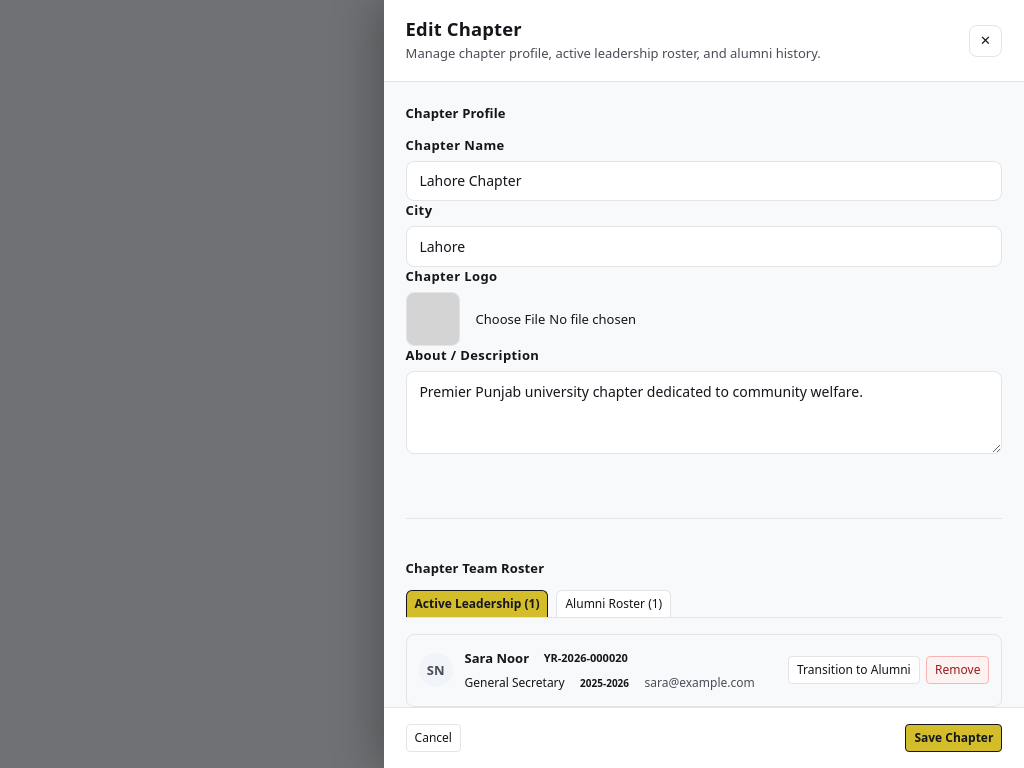
Test case: EditChapterDrawer › switches tabs between Active Leadership and Alumni Roster
Expected: the text "Sara Noor" is shown, [465,649,529,668]
# Switch to Alumni Roster tab
Click the tab "Alumni Roster (1)" at (614, 604), box [556,590,671,617]
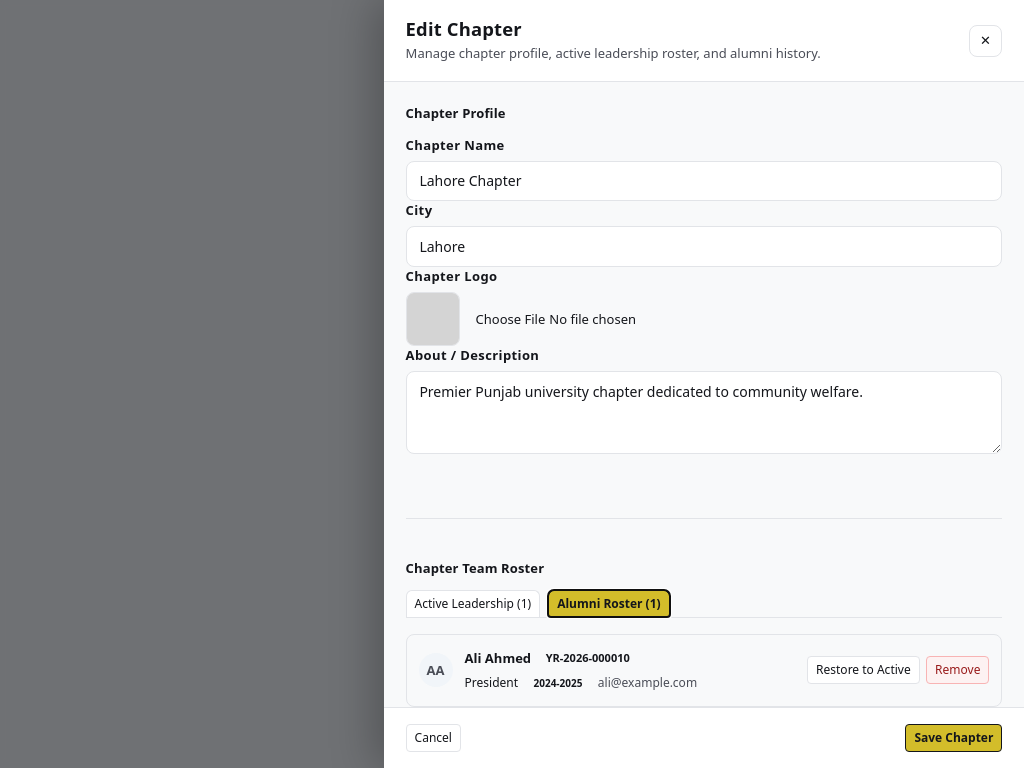
Now the text "Ali Ahmed" is shown, box [465,649,531,668]
Now the text "YR-2026-000010" is shown, box [538,647,637,670]
Now the text "President" is shown, box [465,674,518,692]
